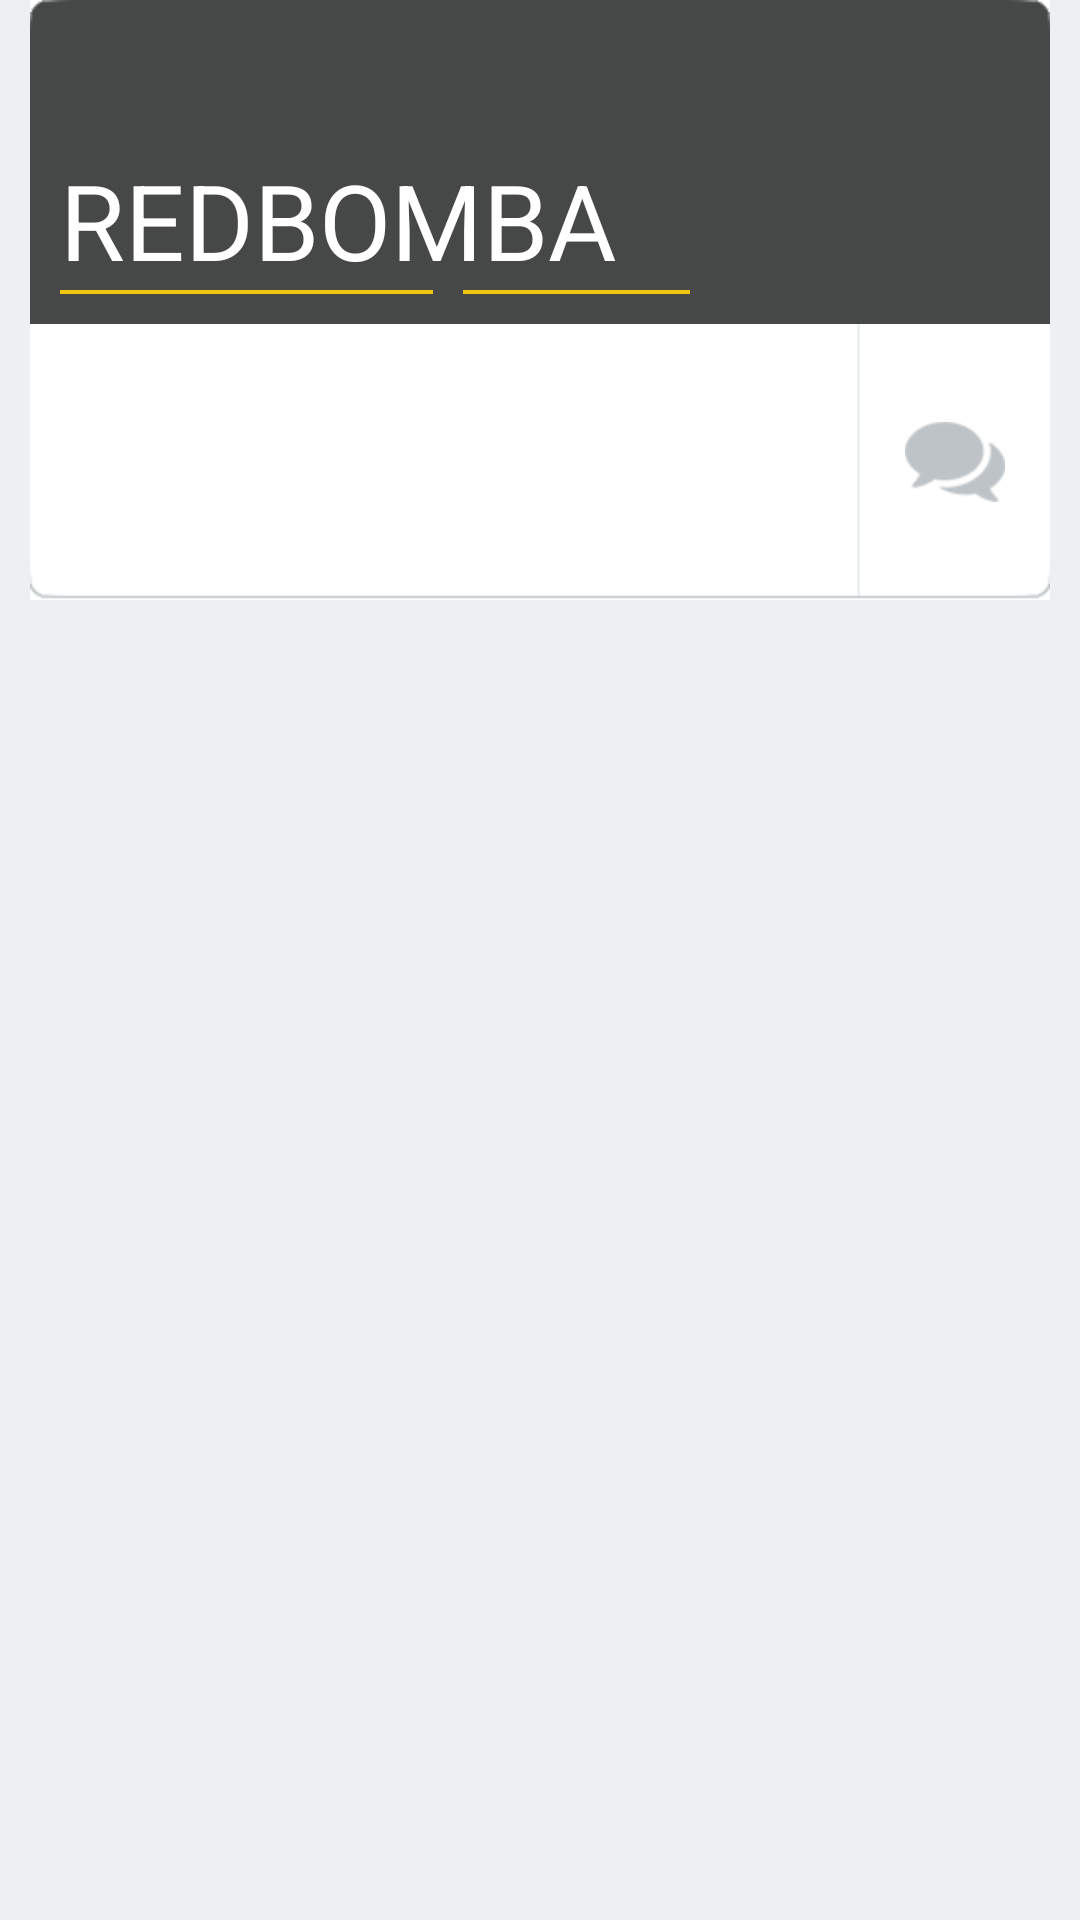

Icons on this 1080×1920 Android screen, each with its box as (x1, y1, x2, y2):
group chat: (905, 422, 1005, 502)
